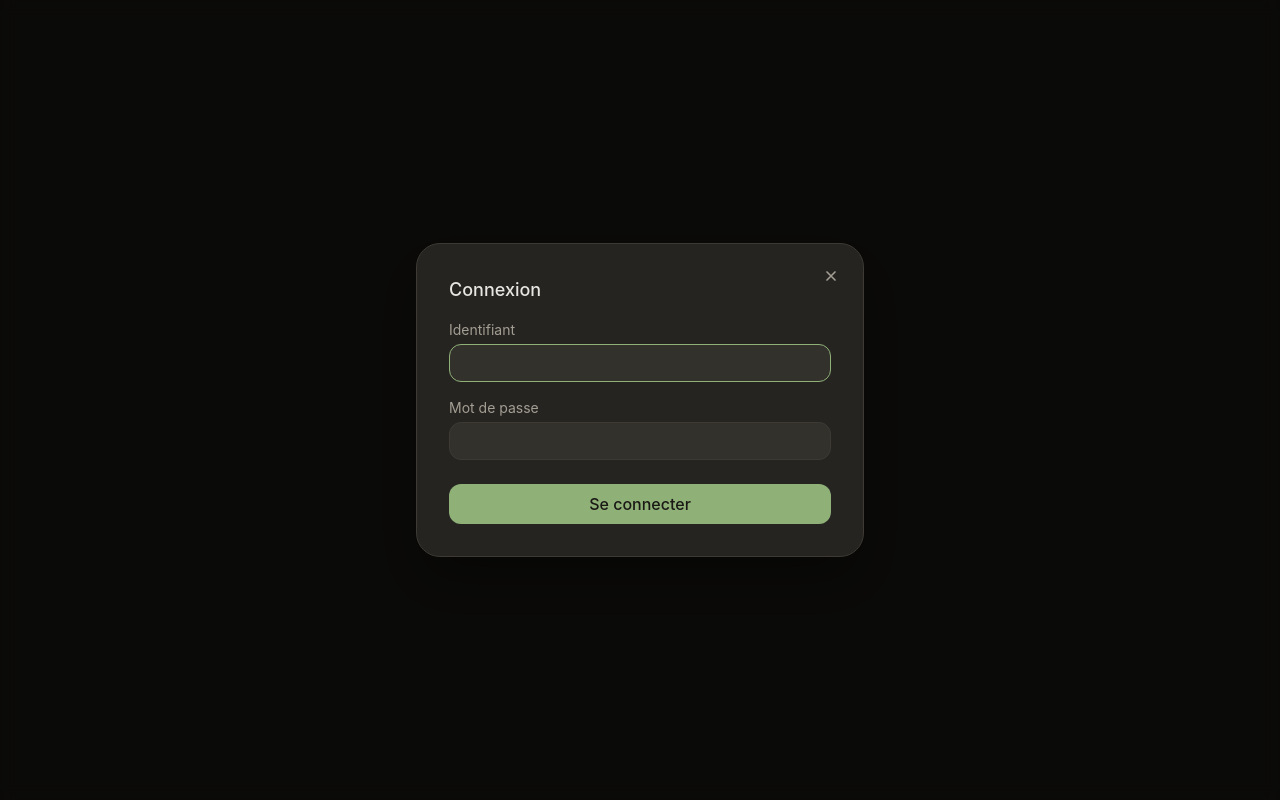
it: LabApp — signed out › re-checks the session after a successful login and opens the shell
The width and height of the screenshot is (1280, 800).
Expected: the field labelled "Identifiant" is shown, [449,344,831,382]
Click the button "Se connecter". click: point(640, 504)
box: [449,484,831,524]
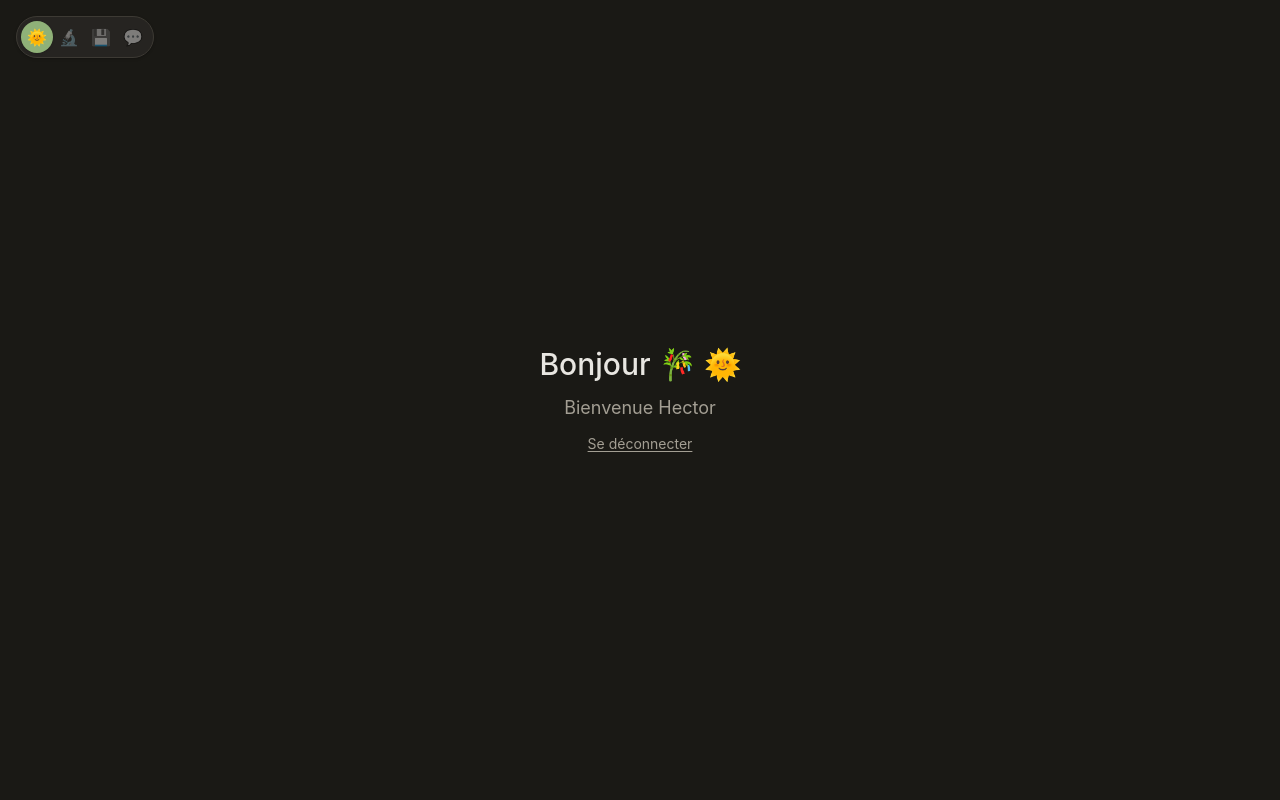
Now the element named "Lab sections" is shown, box [16,16,154,58]
